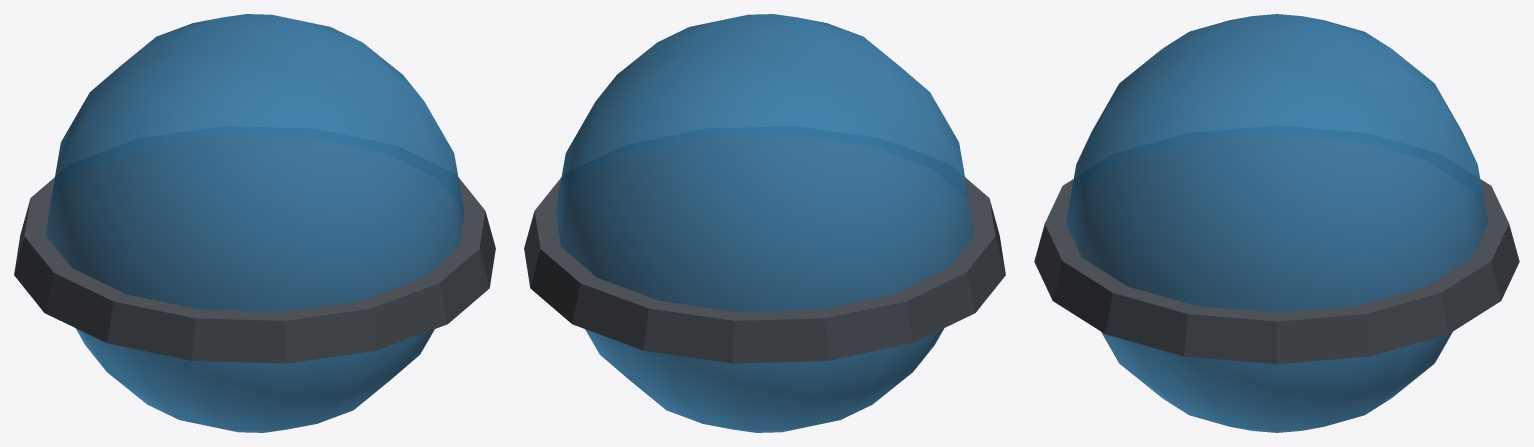
File: hab_dome.obj
3 views of the same model, side by side, from view 1: azimuth 30°, elevation 25°; view 2: azimuth 150°, elevation 25°; view 3: azimuth 270°, elevation 25° (orthographic).
Visible parts, largest first — view 1: HabitationDome; view 2: HabitationDome; view 3: HabitationDome.
Part boxes in pixels (bbox=[...]): HabitationDome: bbox=[14, 14, 495, 432]; HabitationDome: bbox=[524, 14, 1005, 432]; HabitationDome: bbox=[1034, 14, 1519, 432].
Bounding box in the file's own units: 4.6 × 4 × 4.6.
